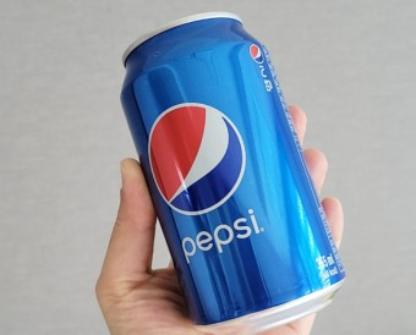Can: (117, 13, 349, 335)
